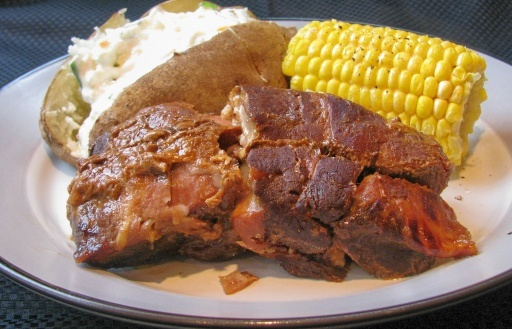background: (31, 0, 390, 145)
